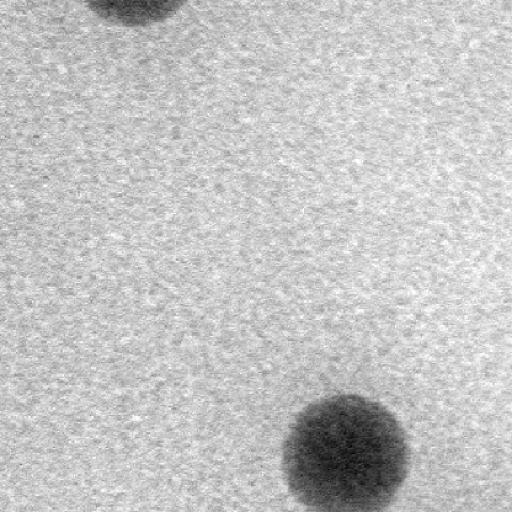Nanoparticles: (278, 392, 410, 511), (86, 0, 187, 25)
